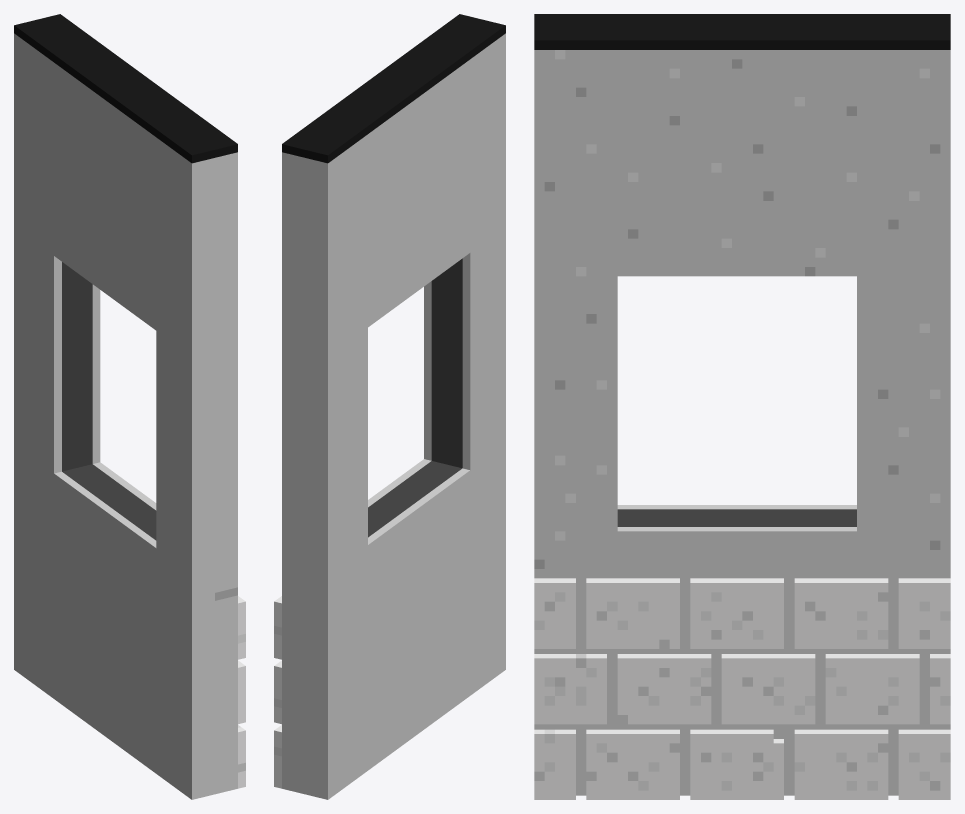
Rendered from Mur_Marbre_DAB.obj.
3 views of the same model, side by side, from view 1: azimuth 30°, elevation 25°; view 2: azimuth 150°, elevation 25°; view 3: azimuth 270°, elevation 25° (orthographic). The views are drawn at different scales.
Visible parts, largest first — view 1: Mur_Marbre_DAB; view 2: Mur_Marbre_DAB; view 3: Mur_Marbre_DAB.
Part boxes in pixels (x1,y1,x2,y2): Mur_Marbre_DAB: [14, 14, 245, 799]; Mur_Marbre_DAB: [274, 14, 505, 799]; Mur_Marbre_DAB: [534, 14, 950, 799].
Bounding box in the file's own units: 0.175 × 2 × 1.
